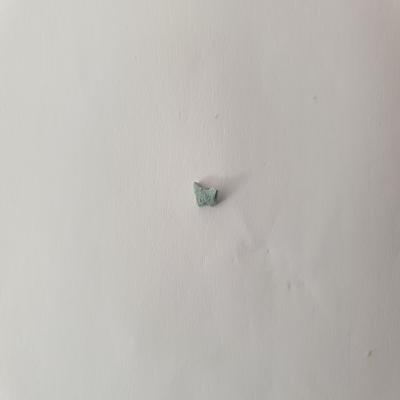plastic: (189, 171, 227, 211)
